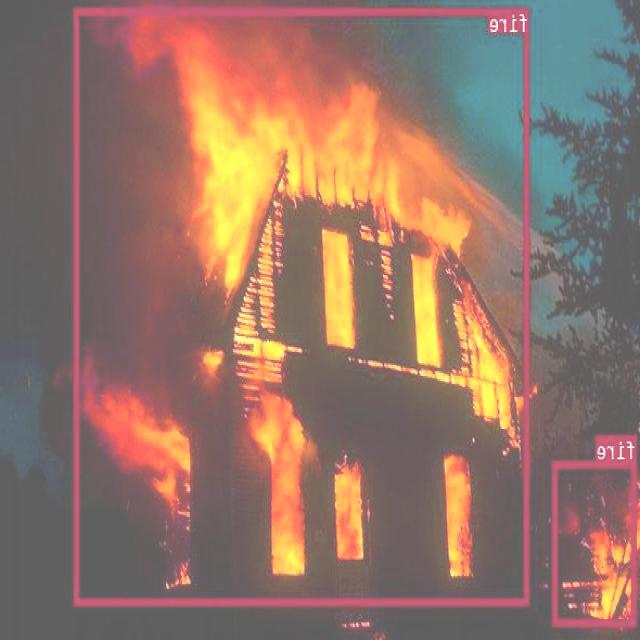fire: (74, 7, 530, 605), (554, 460, 638, 626)
